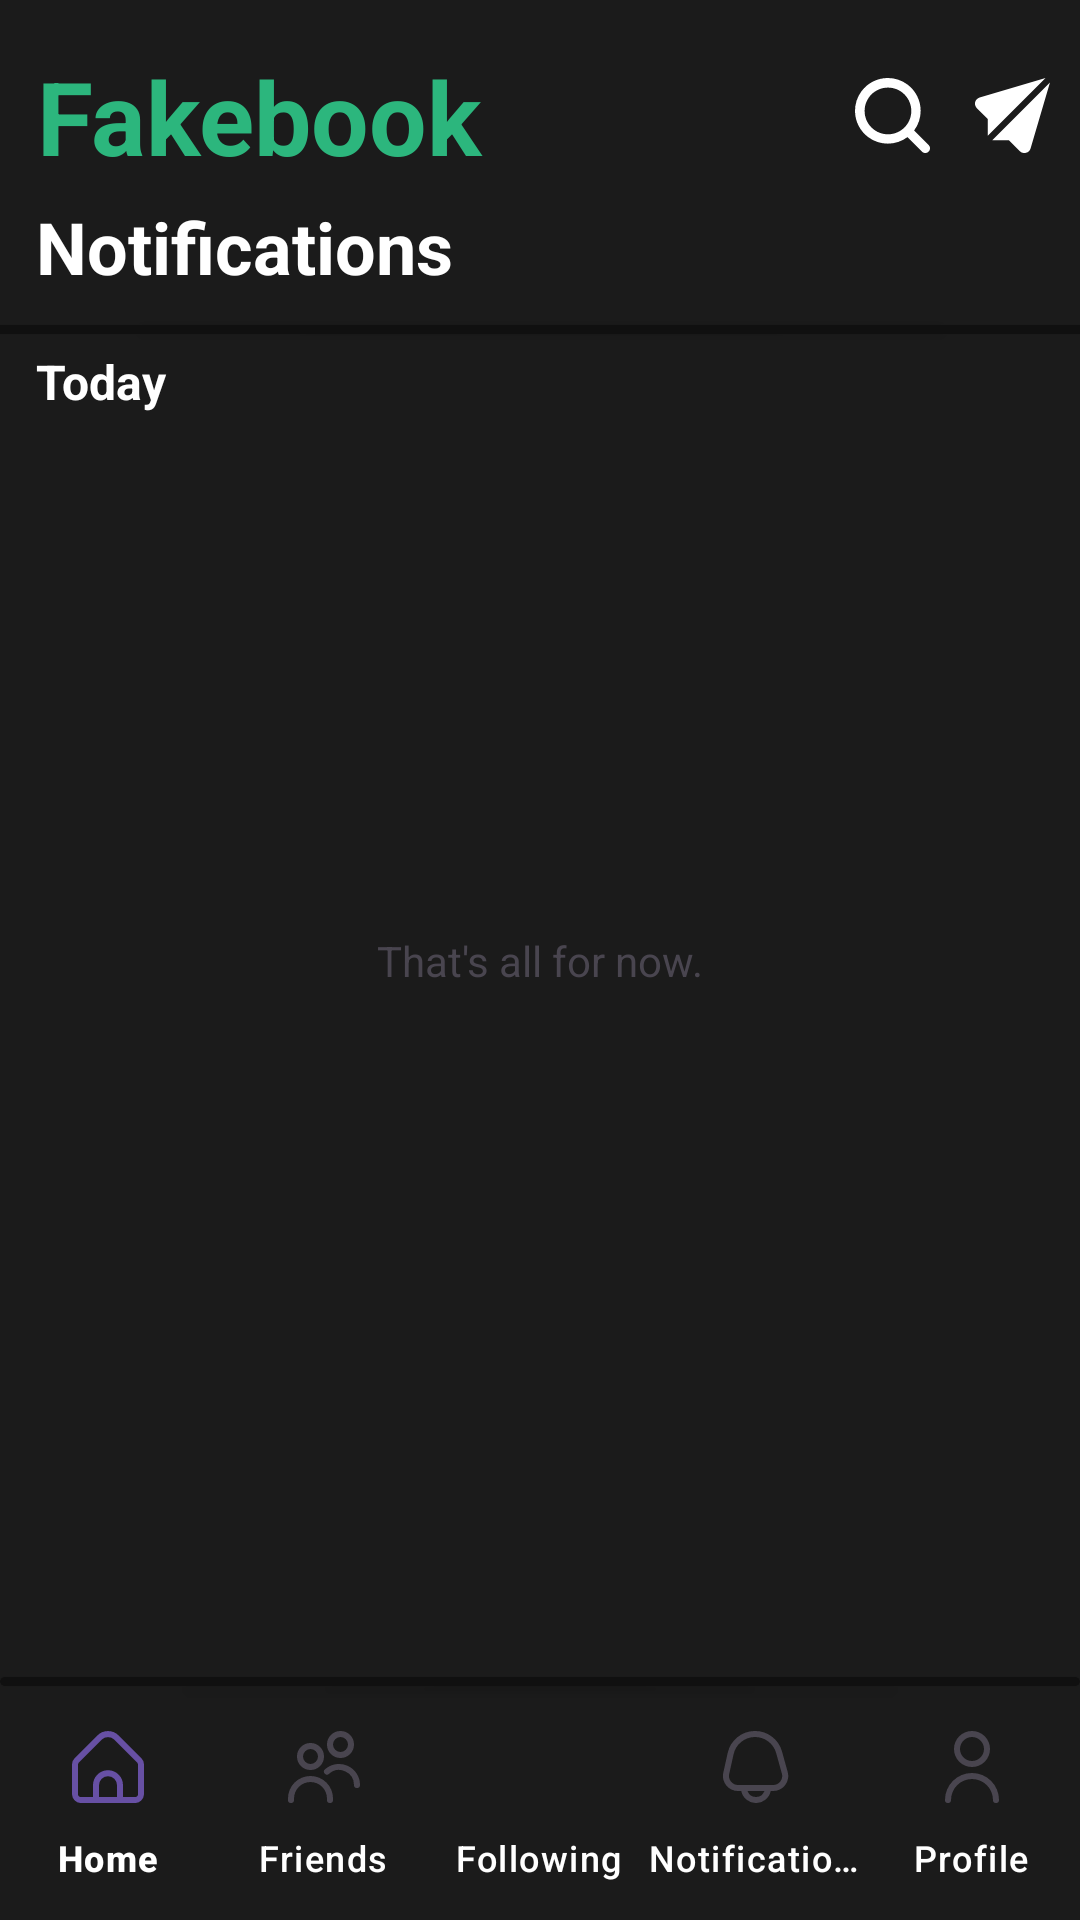

Point at icon controls on the screen. Image size 1080×1920, points as point (x, y).
message: point (1012, 115)
search: point (892, 115)
